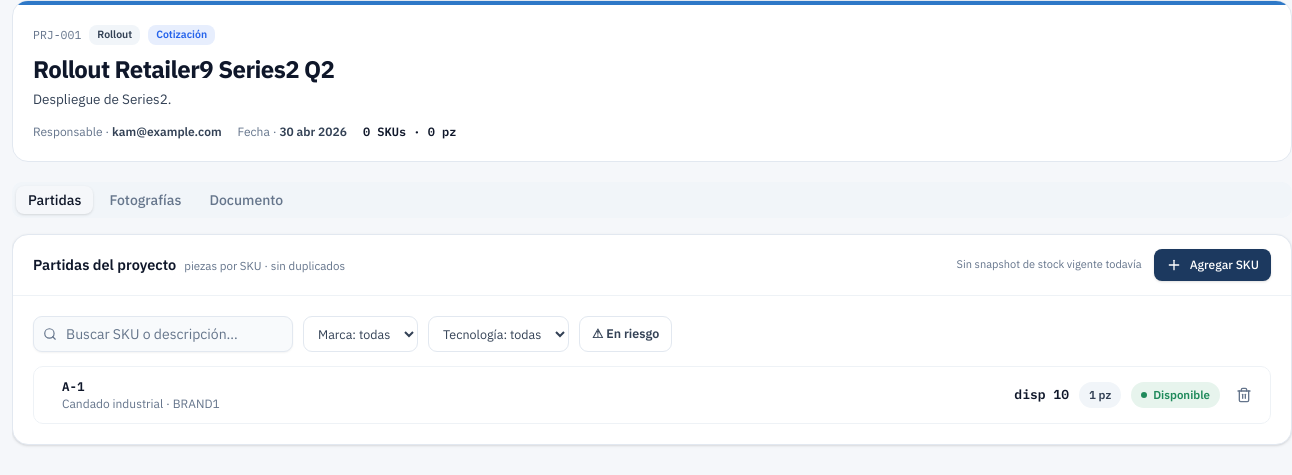
Test case: ProyectoDetalleView — la pestaña «Fotografías» se abre de verdad › monta su PANEL, no solo su rótulo: el `value` del disparador y el del contenido coinciden
Press the mouse on the tab "Fotografías": coordinates (145, 200) [97, 186, 193, 214]
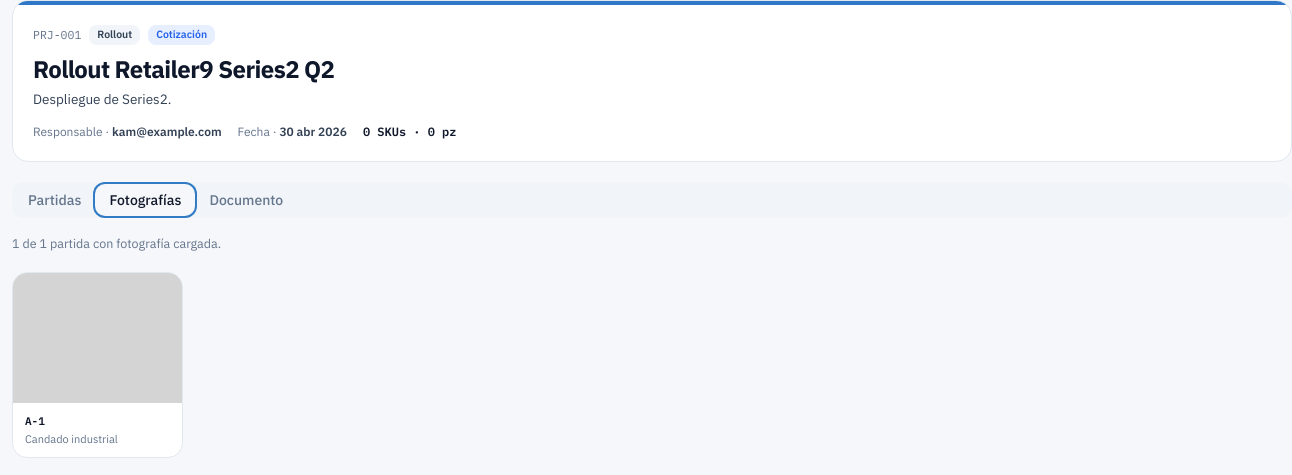
expect the text "1 de 1 partida con fotografía cargada." is shown: met, box [12, 235, 221, 251]
